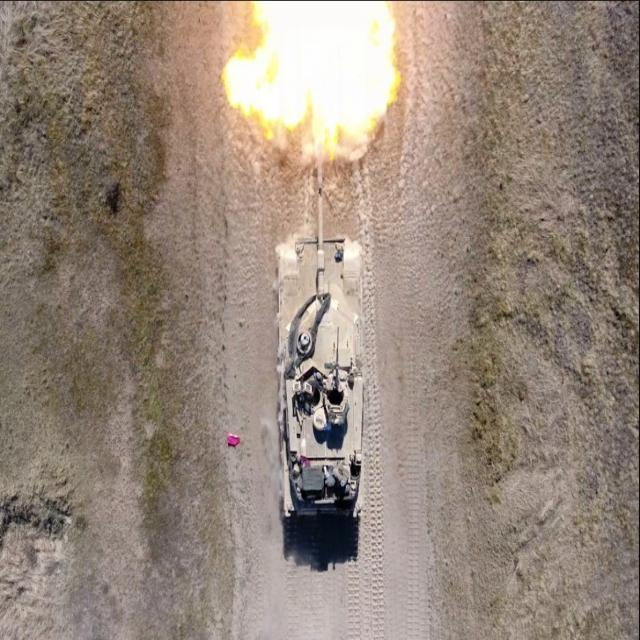Tanks: (276, 142, 366, 523)
